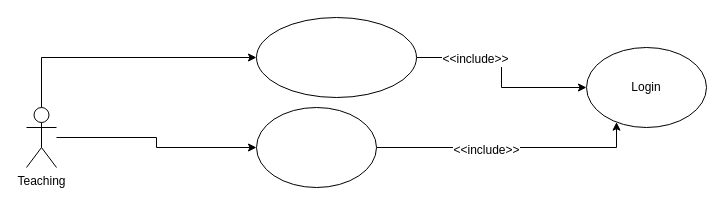
This 724x206 diagram has some shape labels left out. Each missing label, with the centre of its shape:
Read Teaching files and lower clearence: (x=316, y=147)
vote file/modifications/deletions: (x=336, y=57)
